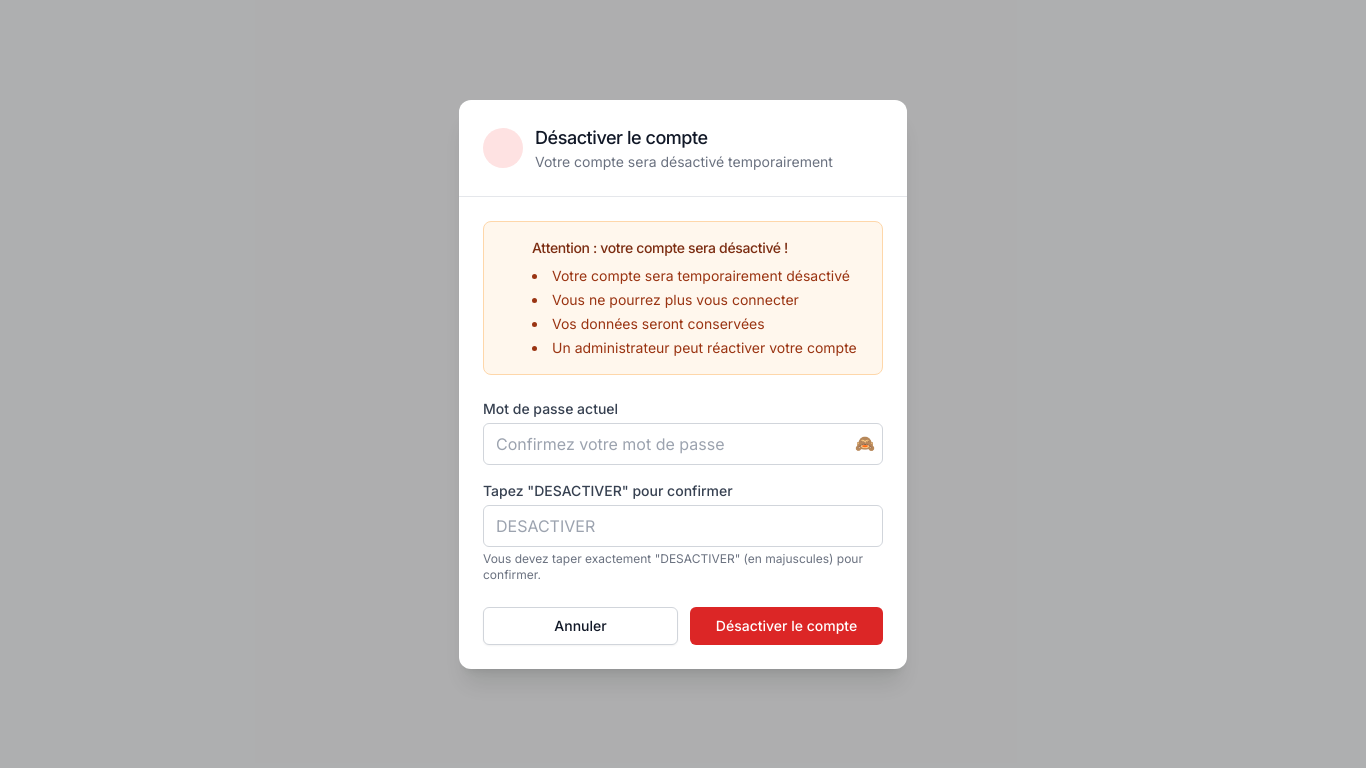
Test: DeleteAccountModal › Validation et soumission › affiche une erreur si le mot de passe est vide
This screenshot has width=1366, height=768.
Click the button with test id "submit-button": (786, 626) [690,606,883,644]
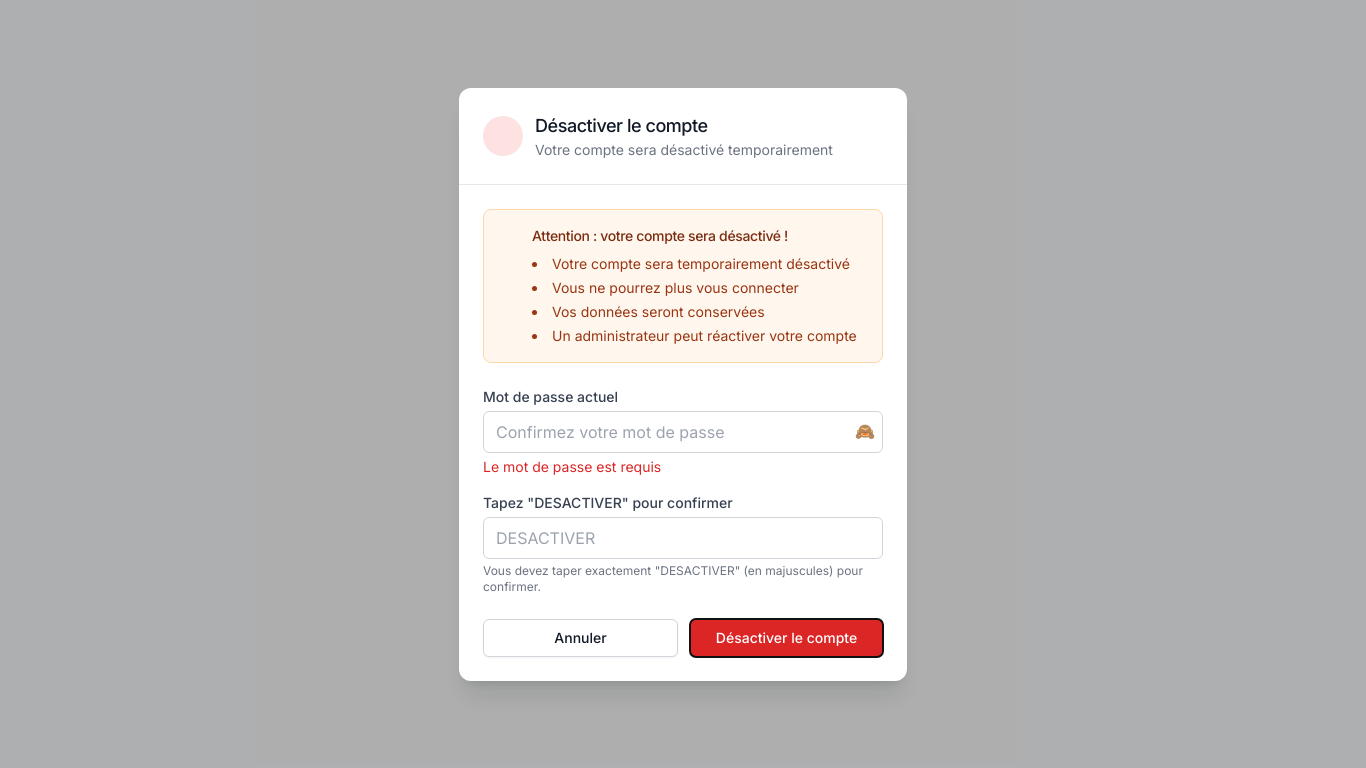
Result: the text "Le mot de passe est requis" is shown at [483,458,661,474]
